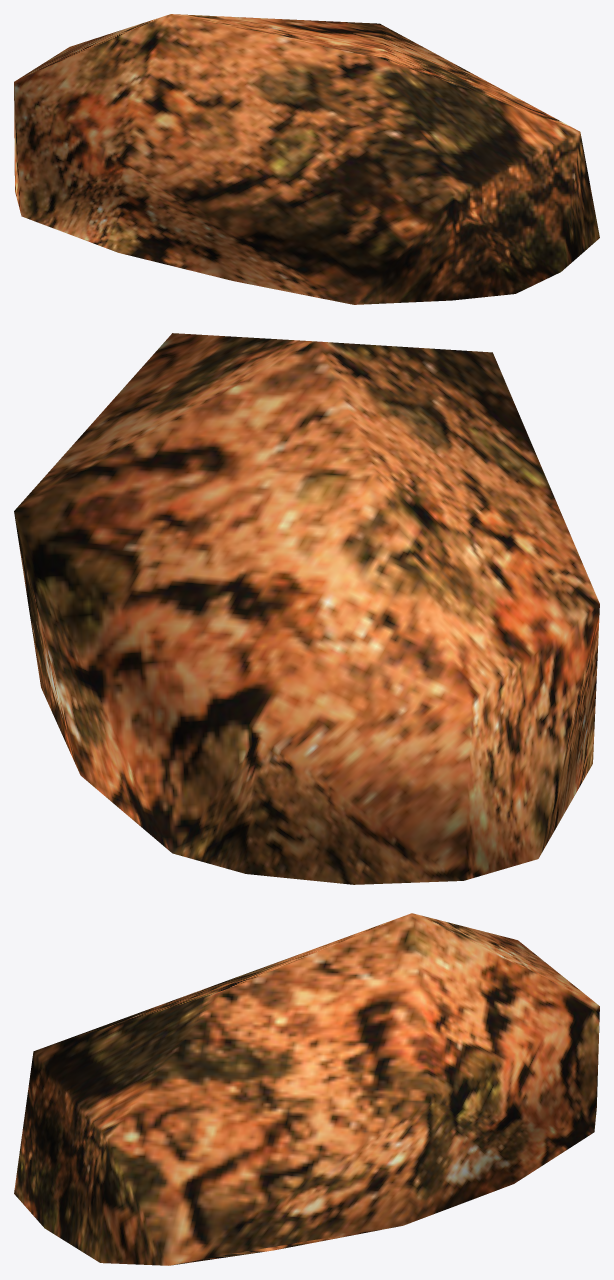
File: stone8_tex3.fbx
The picture shows the model from 3 angles, top to bottom: view 1: azimuth 30°, elevation 25°; view 2: azimuth 150°, elevation 25°; view 3: azimuth 270°, elevation 25°; orthographic projection. The views are drawn at different scales.
Parts seen in each view (by area): view 1: stone8_tex3Object; view 2: stone8_tex3Object; view 3: stone8_tex3Object.
Part boxes in pixels (x1=…): stone8_tex3Object: x1=14, y1=14, x2=599, y2=304; stone8_tex3Object: x1=14, y1=333, x2=599, y2=884; stone8_tex3Object: x1=14, y1=913, x2=599, y2=1265.
Bounding box in the file's own units: 0.5925 × 0.2616 × 0.6809.
Materials: 1 (1 with a texture image).
